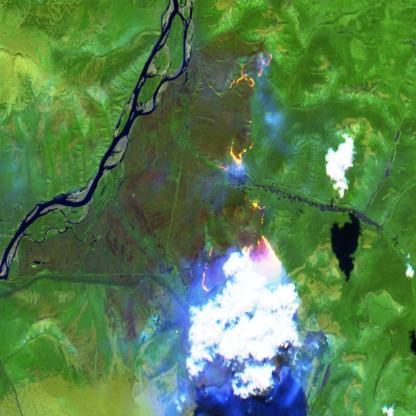fire: (199, 41, 277, 320)
